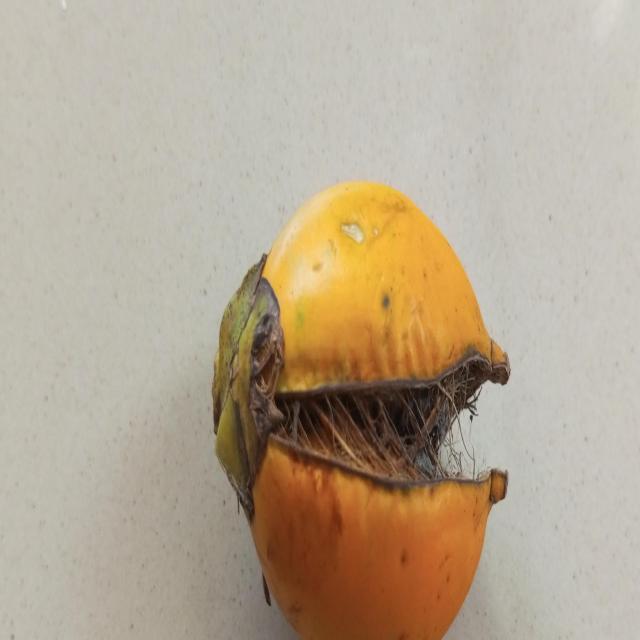damaged: (212, 181, 511, 640)
